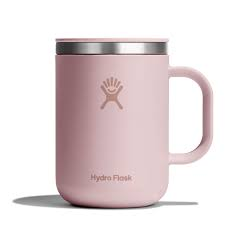mug: (34, 29, 225, 216)
